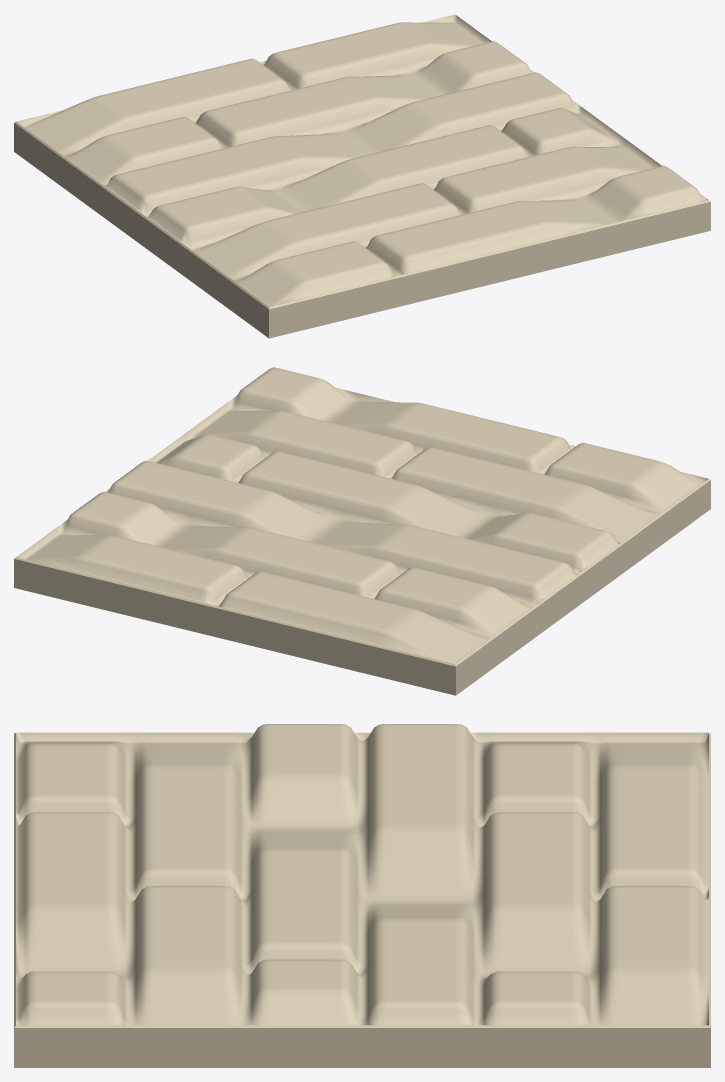
Rendered from mahsulot.glb.
3 views of the same model, one above another, from view 1: azimuth 30°, elevation 25°; view 2: azimuth 150°, elevation 25°; view 3: azimuth 270°, elevation 25° (orthographic). The views are drawn at different scales.
Parts seen in each view (by area): view 1: mahsulot; view 2: mahsulot; view 3: mahsulot.
Boxes of the visible parts, x1,y1,x2,y2 form: mahsulot: (14,14,710,338); mahsulot: (14,367,710,695); mahsulot: (14,724,710,1067).
Size of the model in its own units: 0.5 by 0.045 by 0.5.
